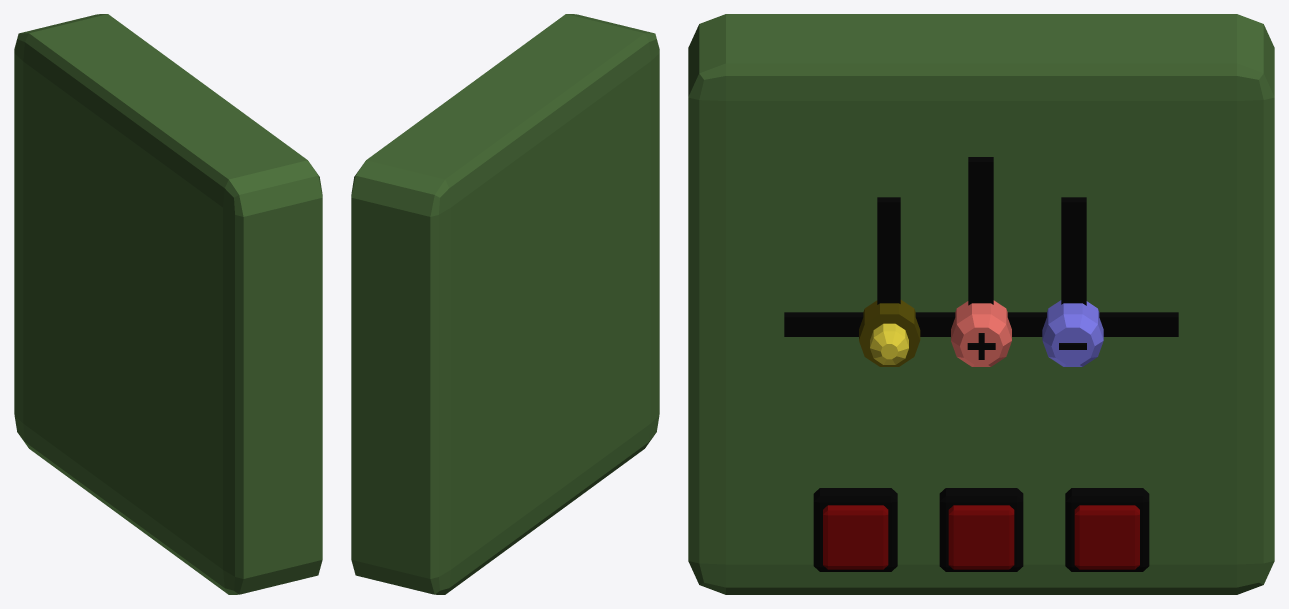
The model's file is SlotCharger.fbx.
The picture shows the model from 3 angles, left to right: view 1: azimuth 30°, elevation 25°; view 2: azimuth 150°, elevation 25°; view 3: azimuth 270°, elevation 25°; orthographic projection. The views are drawn at different scales.
Parts seen in each view (by area): view 1: Cube.003; view 2: Cube.003; view 3: Cube.003, Cylinder, Cylinder.002, Cylinder.001.
Part boxes in pixels (x1,y1,x2,y2): Cube.003: (14,14,322,594); Cube.003: (351,14,659,594); Cube.003: (688,14,1274,594); Cylinder: (859,300,920,366); Cylinder.002: (1042,300,1103,366); Cylinder.001: (951,300,1011,366).
Bounding box in the file's own units: 471 × 1399 × 1399.
